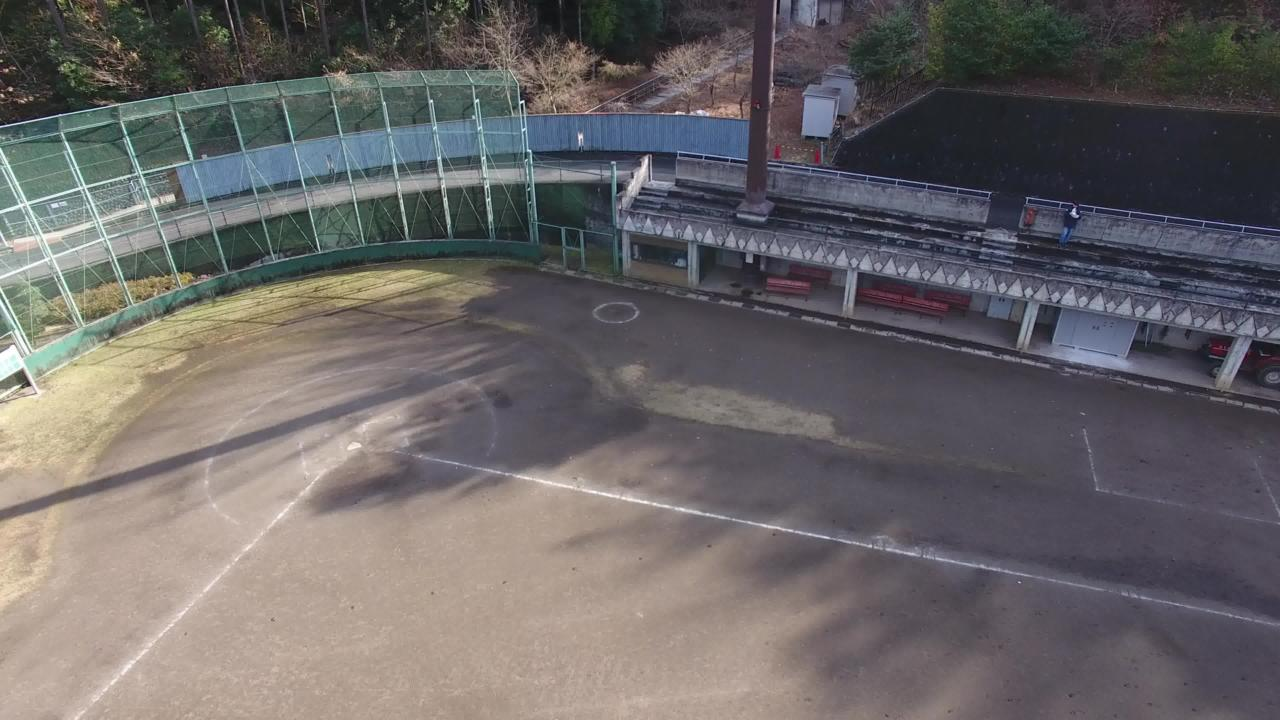person: (1058, 199, 1089, 259)
